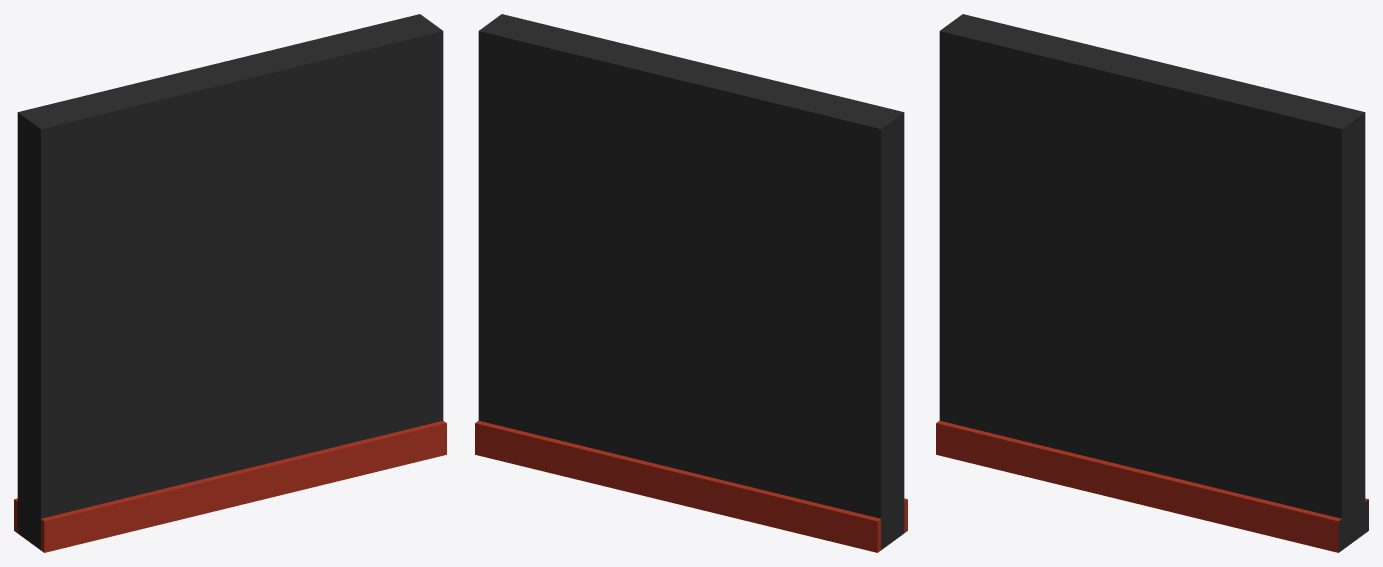
The model's file is BasicWall.fbx.
The picture shows the model from 3 angles, left to right: view 1: azimuth 30°, elevation 25°; view 2: azimuth 150°, elevation 25°; view 3: azimuth 330°, elevation 25°; orthographic projection.
Parts seen in each view (by area): view 1: BasicWall; view 2: BasicWall; view 3: BasicWall.
Part boxes in pixels (x1,y1,x2,y2): BasicWall: [14, 14, 446, 552]; BasicWall: [475, 14, 907, 552]; BasicWall: [936, 14, 1368, 552].
Size of the model in its own units: 200 by 200 by 26.
